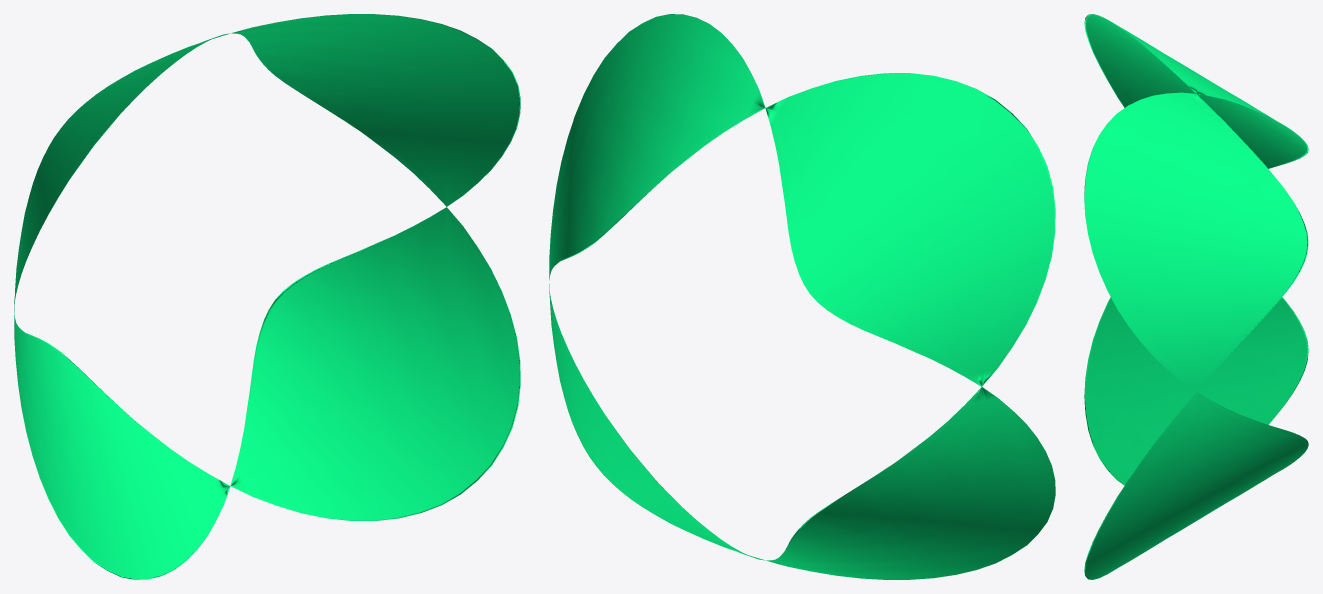
File: weyl_tensor_surface_ar_universal.glb
3 renders of one model, left to right at view 1: azimuth 30°, elevation 25°; view 2: azimuth 150°, elevation 25°; view 3: azimuth 270°, elevation 25°, orthographic. The views are drawn at different scales.
Parts seen in each view (by area): view 1: weyl_tensor_surface_ar; view 2: weyl_tensor_surface_ar; view 3: weyl_tensor_surface_ar.
Boxes of the visible parts, x1,y1,x2,y2 form: weyl_tensor_surface_ar: (14,14,520,579); weyl_tensor_surface_ar: (549,14,1055,579); weyl_tensor_surface_ar: (1084,14,1308,579).
Bounding box in the file's own units: 1 × 1 × 0.4477.
